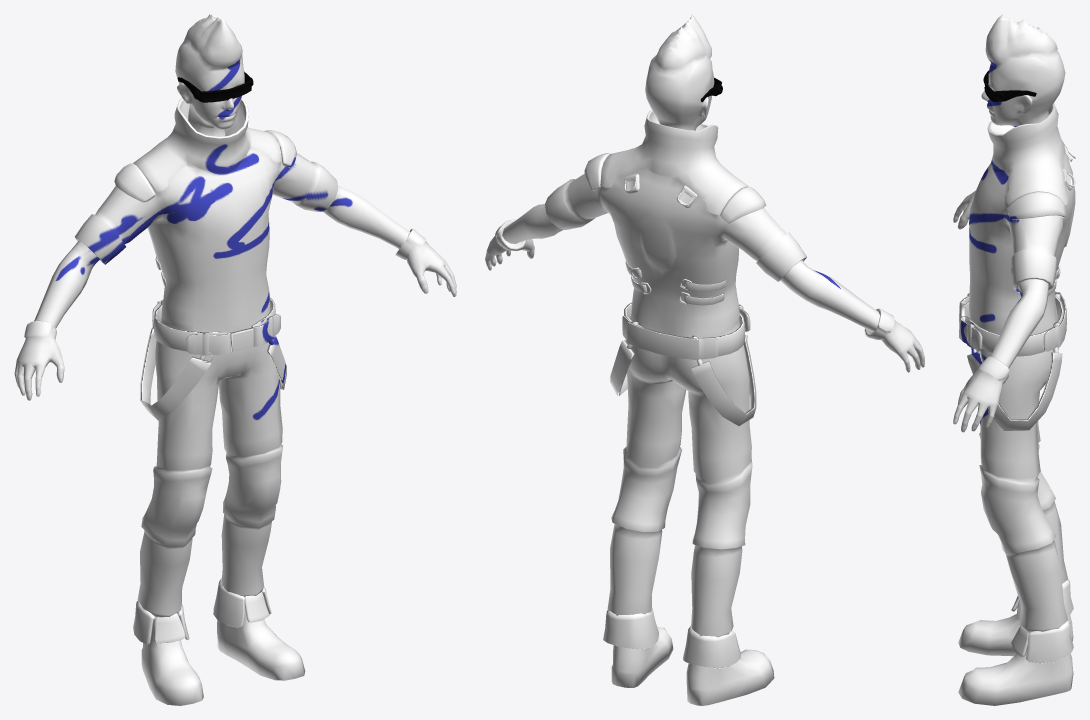
File: Ethan.fbx
The picture shows the model from 3 angles, left to right: view 1: azimuth 30°, elevation 25°; view 2: azimuth 150°, elevation 25°; view 3: azimuth 270°, elevation 25°; orthographic projection.
Visible parts, largest first — view 1: node_id61 (×2); view 2: node_id61; view 3: node_id61 (×2).
Boxes of the visible parts, bbox=[...] form: node_id61 (×2): bbox=[14, 14, 456, 705]; node_id61: bbox=[485, 14, 924, 705]; node_id61 (×2): bbox=[953, 14, 1075, 705].
Size of the model in its own units: 0.3497 by 0.512 by 0.0864.
Materials: 2 (2 with a texture image).
